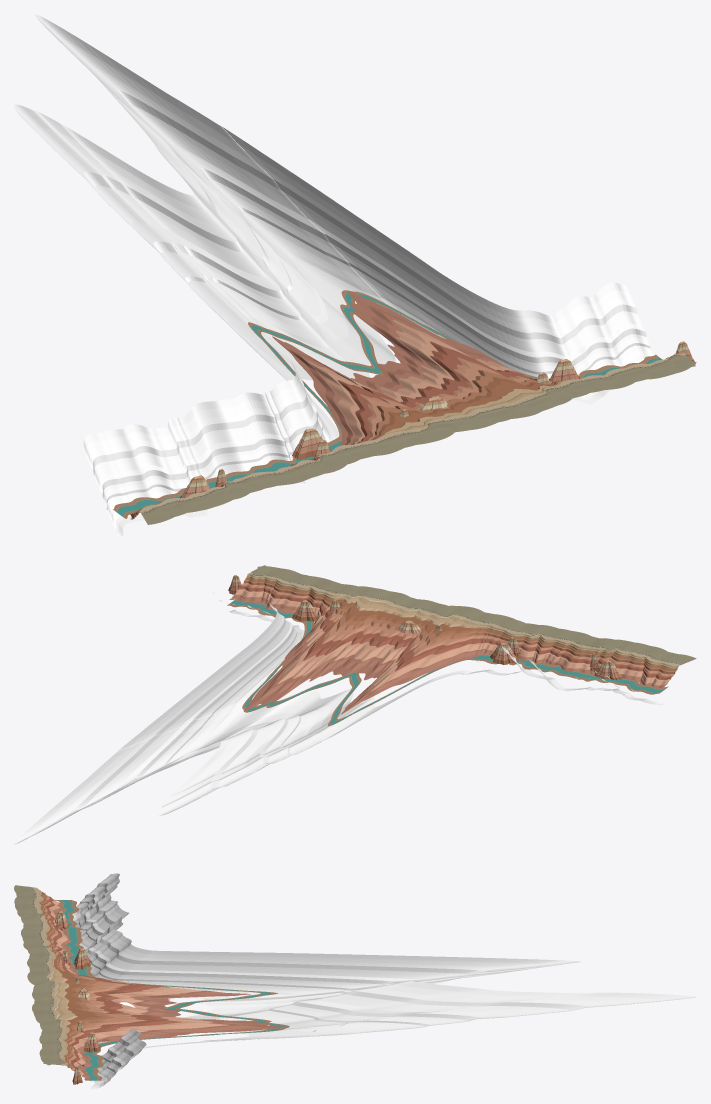
File: grandcanyon.glb
3 views of the same model, one above another, from view 1: azimuth 30°, elevation 25°; view 2: azimuth 150°, elevation 25°; view 3: azimuth 270°, elevation 25° (orthographic). The views are drawn at different scales.
Parts seen in each view (by area): view 1: FarRim_043, FarRim_030, FarRim_045, CanyonStrata_043, CanyonStrata_030, FarRim_009, FarRim_055, FarRim_019, FarRim_003, FarRim_013, FarRim_051, CanyonStrata_035 (+19 smaller); view 2: FarRim_043, FarRim_030, FarRim_045, CanyonStrata_043, CanyonStrata_030, CanyonStrata_035, CanyonStrata_037, CanyonStrata_031, CanyonStrata_019, Land_007, CanyonStrata_055, CanyonStrata_027 (+21 smaller); view 3: FarRim_030, FarRim_043, CanyonStrata_043, CanyonStrata_030, FarRim_025, CanyonStrata_035, FarRim_009, FarRim_021, FarRim_035, FarRim_055, FarRim_019, CanyonStrata_031 (+20 smaller).
Part boxes in pixels (x1=…): FarRim_043: x1=35, y1=14, x2=443, y2=364; FarRim_030: x1=14, y1=104, x2=347, y2=429; FarRim_045: x1=60, y1=27, x2=543, y2=377; CanyonStrata_043: x1=340, y1=290, x2=555, y2=390; CanyonStrata_030: x1=248, y1=322, x2=429, y2=427; FarRim_009: x1=125, y1=417, x2=218, y2=517; FarRim_055: x1=581, y1=282, x2=653, y2=384; FarRim_019: x1=222, y1=391, x2=310, y2=483; FarRim_003: x1=99, y1=427, x2=159, y2=520; FarRim_013: x1=196, y1=400, x2=248, y2=474; FarRim_051: x1=562, y1=296, x2=631, y2=394; CanyonStrata_035: x1=360, y1=337, x2=478, y2=413; FarRim_043: x1=14, y1=668, x2=320, y2=844; FarRim_030: x1=158, y1=677, x2=437, y2=815; FarRim_045: x1=24, y1=611, x2=303, y2=833; CanyonStrata_043: x1=242, y1=595, x2=353, y2=712; CanyonStrata_030: x1=327, y1=615, x2=456, y2=726; CanyonStrata_035: x1=310, y1=610, x2=415, y2=690; CanyonStrata_037: x1=330, y1=604, x2=397, y2=668; CanyonStrata_031: x1=349, y1=616, x2=443, y2=684; CanyonStrata_019: x1=502, y1=634, x2=539, y2=669; Land_007: x1=330, y1=605, x2=484, y2=724; CanyonStrata_055: x1=227, y1=575, x2=265, y2=609; CanyonStrata_027: x1=432, y1=619, x2=472, y2=672; FarRim_030: x1=146, y1=951, x2=580, y2=1017; FarRim_043: x1=160, y1=980, x2=696, y2=1045; CanyonStrata_043: x1=62, y1=1014, x2=289, y2=1038; CanyonStrata_030: x1=50, y1=977, x2=277, y2=1004; FarRim_025: x1=113, y1=950, x2=180, y2=983; CanyonStrata_035: x1=56, y1=992, x2=220, y2=1015; FarRim_009: x1=75, y1=885, x2=118, y2=939; FarRim_021: x1=90, y1=936, x2=143, y2=977; FarRim_035: x1=194, y1=997, x2=335, y2=1020; FarRim_055: x1=90, y1=1038, x2=146, y2=1089; FarRim_019: x1=86, y1=918, x2=124, y2=968; CanyonStrata_031: x1=57, y1=983, x2=191, y2=1007.
Size of the model in its own units: 13528 by 1650 by 20684.
